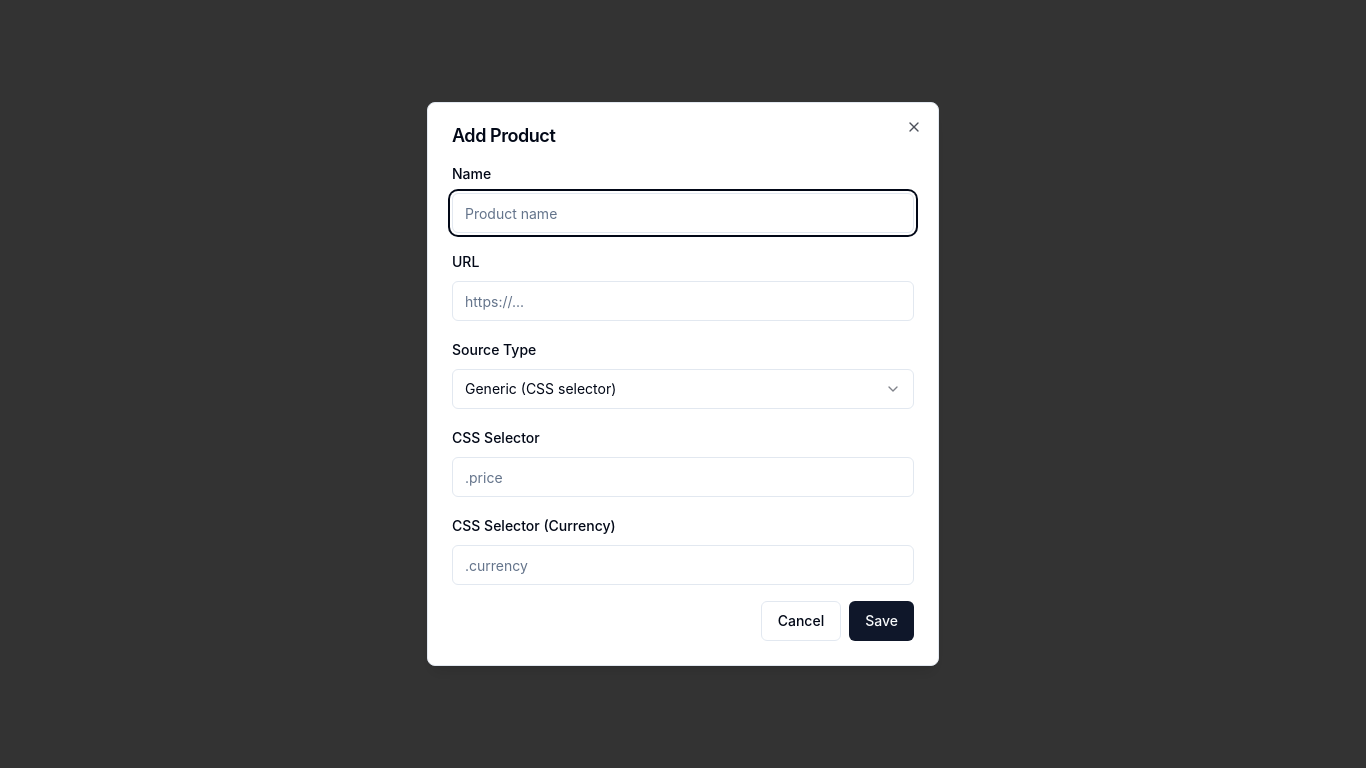
Test: ProductFormDialog › shows FormMessage for invalid URL
Type "not-a-url" into the field with placeholder "https://..." at [683, 301], box [452, 281, 914, 321]
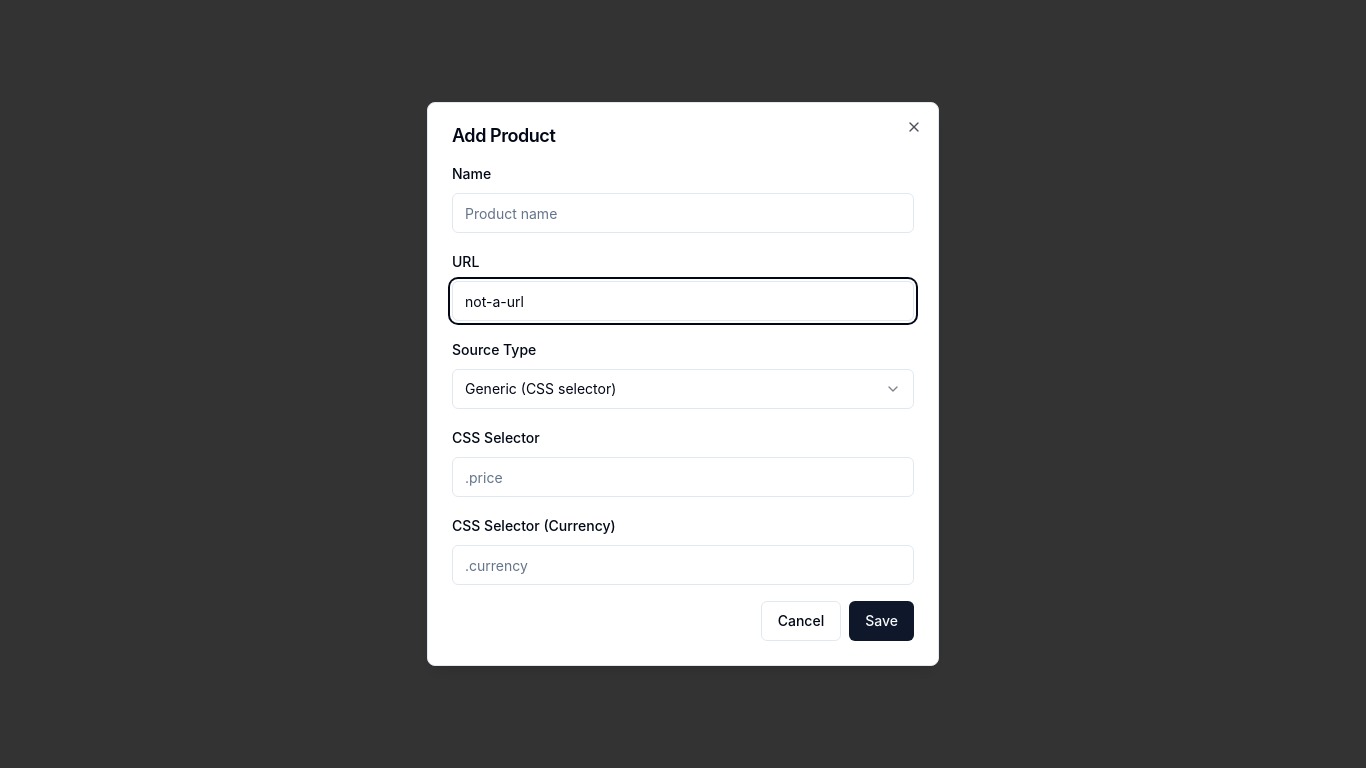
Type "Test" into the field with placeholder "Product name" at [683, 213], box [452, 193, 914, 233]
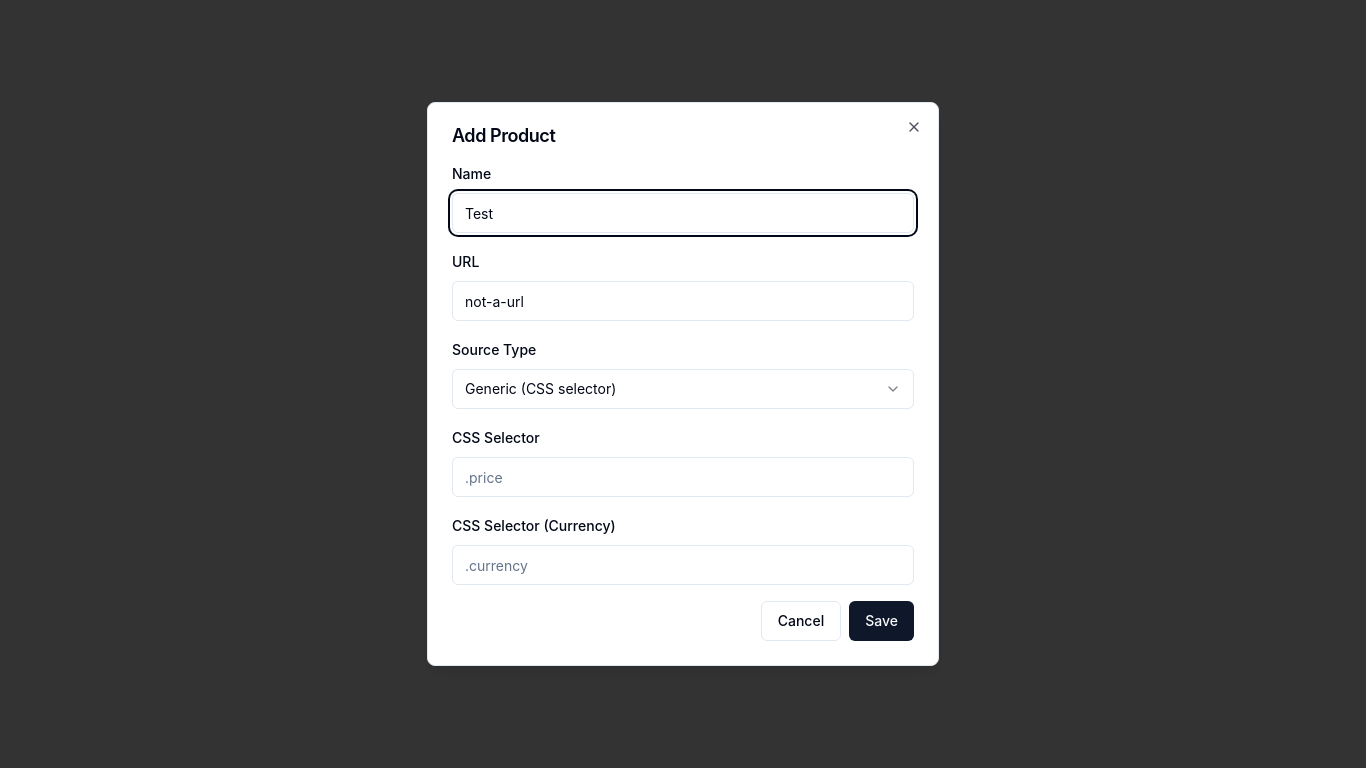
Click the button "Save" at [882, 621], box [849, 601, 914, 641]
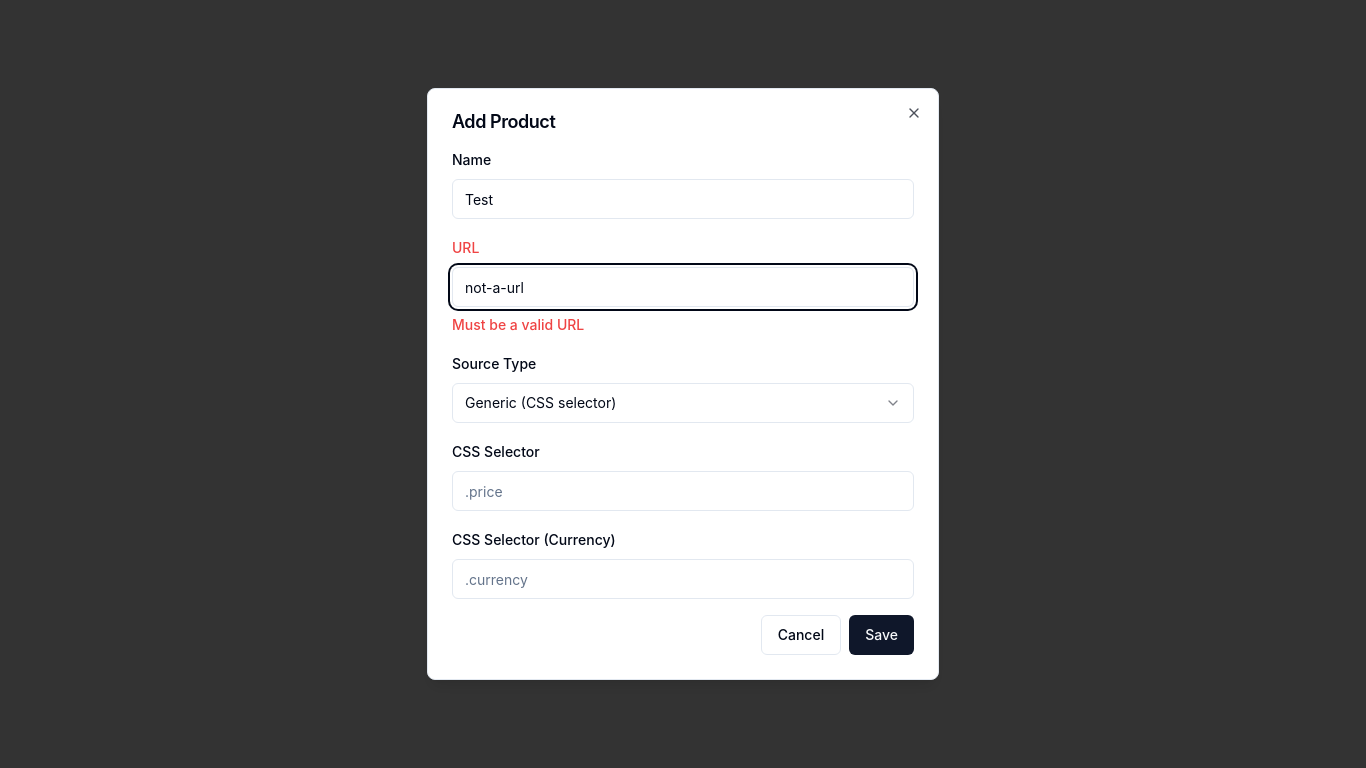
Expected: the text "Must be a valid URL" is shown, [452, 316, 584, 333]
